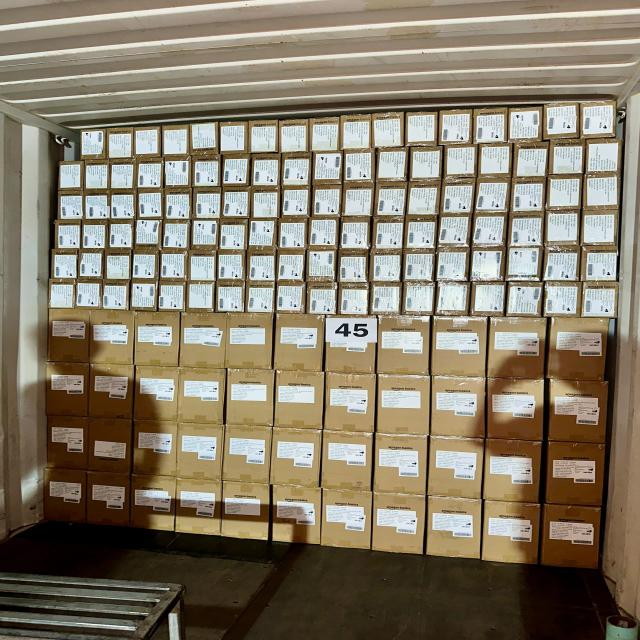Carton: (547, 318, 612, 380), (486, 378, 548, 442), (542, 504, 602, 570), (547, 379, 608, 443), (546, 442, 605, 506), (482, 499, 537, 566), (485, 438, 540, 504), (431, 376, 488, 438), (427, 495, 482, 559), (376, 374, 431, 436), (490, 317, 544, 380), (428, 438, 482, 500), (374, 492, 426, 556), (374, 434, 428, 495), (434, 315, 486, 378), (320, 488, 372, 550), (377, 315, 430, 375), (324, 372, 376, 432), (274, 369, 324, 431), (322, 430, 372, 492), (326, 314, 376, 374), (272, 485, 322, 545), (221, 481, 271, 541), (225, 368, 275, 427), (274, 314, 324, 372), (85, 469, 132, 530), (224, 424, 270, 486), (274, 426, 320, 488), (224, 312, 274, 369), (178, 367, 226, 425), (42, 361, 90, 418), (86, 417, 132, 476), (131, 418, 177, 477), (176, 478, 222, 536), (178, 422, 222, 482), (180, 312, 226, 368), (90, 363, 135, 420), (135, 365, 178, 423), (132, 475, 175, 533), (89, 310, 135, 364), (42, 469, 87, 524), (134, 311, 178, 367), (43, 415, 88, 469), (50, 309, 90, 362), (580, 244, 622, 282), (579, 101, 618, 140), (543, 280, 581, 318), (582, 280, 619, 319), (544, 245, 581, 282), (548, 139, 586, 175), (506, 282, 544, 318), (475, 178, 511, 215), (583, 175, 620, 211), (582, 210, 619, 246), (505, 246, 542, 282), (586, 137, 621, 175), (546, 176, 582, 212), (406, 181, 444, 215), (545, 211, 581, 246), (404, 215, 440, 250), (471, 282, 507, 317), (474, 108, 508, 145), (544, 103, 578, 140), (372, 112, 406, 148), (508, 107, 542, 143), (514, 142, 548, 178), (436, 247, 470, 283), (439, 109, 472, 146), (472, 215, 509, 248), (376, 148, 410, 183), (336, 250, 371, 284), (470, 247, 504, 282), (405, 111, 438, 147), (479, 144, 513, 178), (409, 147, 443, 181), (248, 153, 282, 187), (305, 249, 339, 283), (437, 282, 471, 316), (511, 178, 544, 213), (371, 216, 404, 251), (341, 114, 373, 150), (444, 146, 478, 179), (402, 283, 436, 316), (509, 214, 544, 246), (248, 119, 279, 155), (403, 250, 436, 283), (342, 184, 374, 218), (374, 182, 406, 216), (442, 180, 474, 214), (276, 249, 308, 283), (337, 284, 371, 316), (437, 216, 472, 247), (310, 116, 340, 152), (343, 150, 375, 183), (340, 217, 372, 250), (307, 218, 340, 250), (306, 283, 338, 316), (279, 119, 310, 153), (192, 186, 223, 219), (250, 187, 281, 220), (282, 152, 312, 186), (217, 249, 247, 283), (246, 249, 276, 283), (220, 156, 251, 188), (312, 186, 343, 218), (371, 250, 402, 282), (162, 187, 192, 220), (282, 186, 312, 219), (276, 282, 306, 315), (219, 120, 248, 154), (215, 282, 246, 313), (192, 156, 222, 188), (246, 282, 276, 314), (221, 187, 250, 220), (314, 151, 342, 185), (372, 284, 402, 315), (188, 250, 217, 282), (186, 282, 215, 314), (137, 187, 165, 220), (218, 220, 248, 250), (191, 220, 221, 250), (162, 220, 192, 250), (134, 220, 164, 250), (102, 281, 132, 311), (158, 281, 187, 312), (134, 126, 162, 158), (163, 124, 191, 156), (82, 189, 110, 221), (103, 250, 131, 282), (160, 250, 188, 282), (130, 280, 158, 312), (192, 122, 219, 155), (110, 188, 137, 221), (164, 157, 192, 188), (248, 219, 276, 250), (49, 278, 77, 309), (106, 128, 134, 158), (280, 220, 308, 250), (54, 219, 82, 249), (136, 158, 163, 189), (107, 221, 135, 250), (109, 159, 136, 189), (57, 190, 84, 220), (81, 220, 108, 250), (78, 249, 103, 281), (80, 130, 108, 158), (75, 281, 102, 310), (132, 250, 158, 280), (52, 248, 76, 280), (59, 161, 85, 190), (85, 160, 109, 190)
